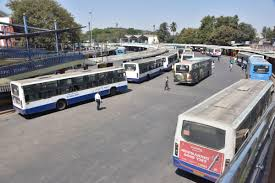bus: (179, 80, 273, 177), (17, 67, 125, 111), (177, 59, 216, 81), (128, 58, 166, 80), (247, 58, 270, 77)
